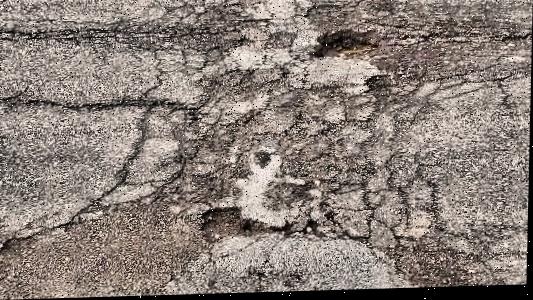pothole: (310, 28, 383, 63), (199, 205, 255, 246)
